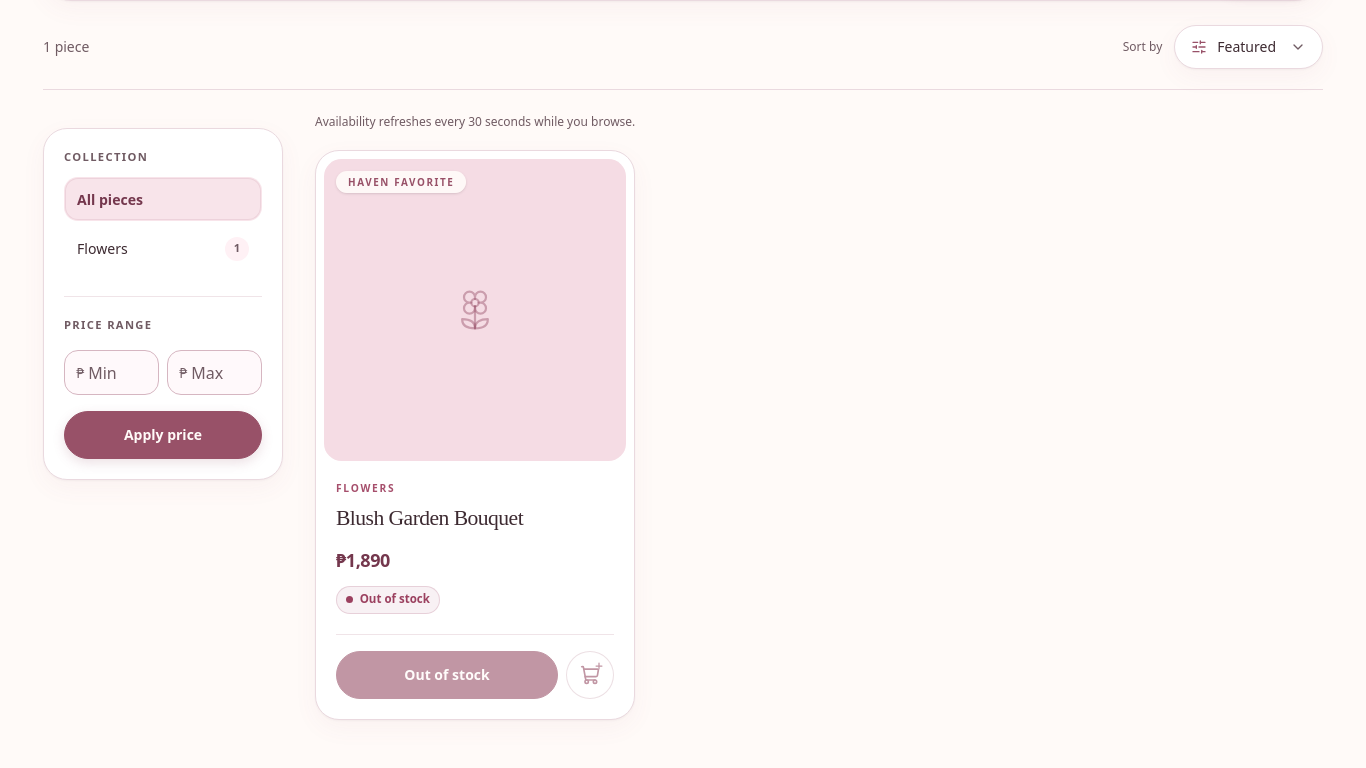
catalog pages › refreshes normal, low, and zero stock on /products and disables purchases
(page scrolled)
Expected: the text "Only 5 left" is shown, [360,592,430,607]
Click the button "Out of stock": (447,675) [336,651,558,699]
Wait 30000 ms
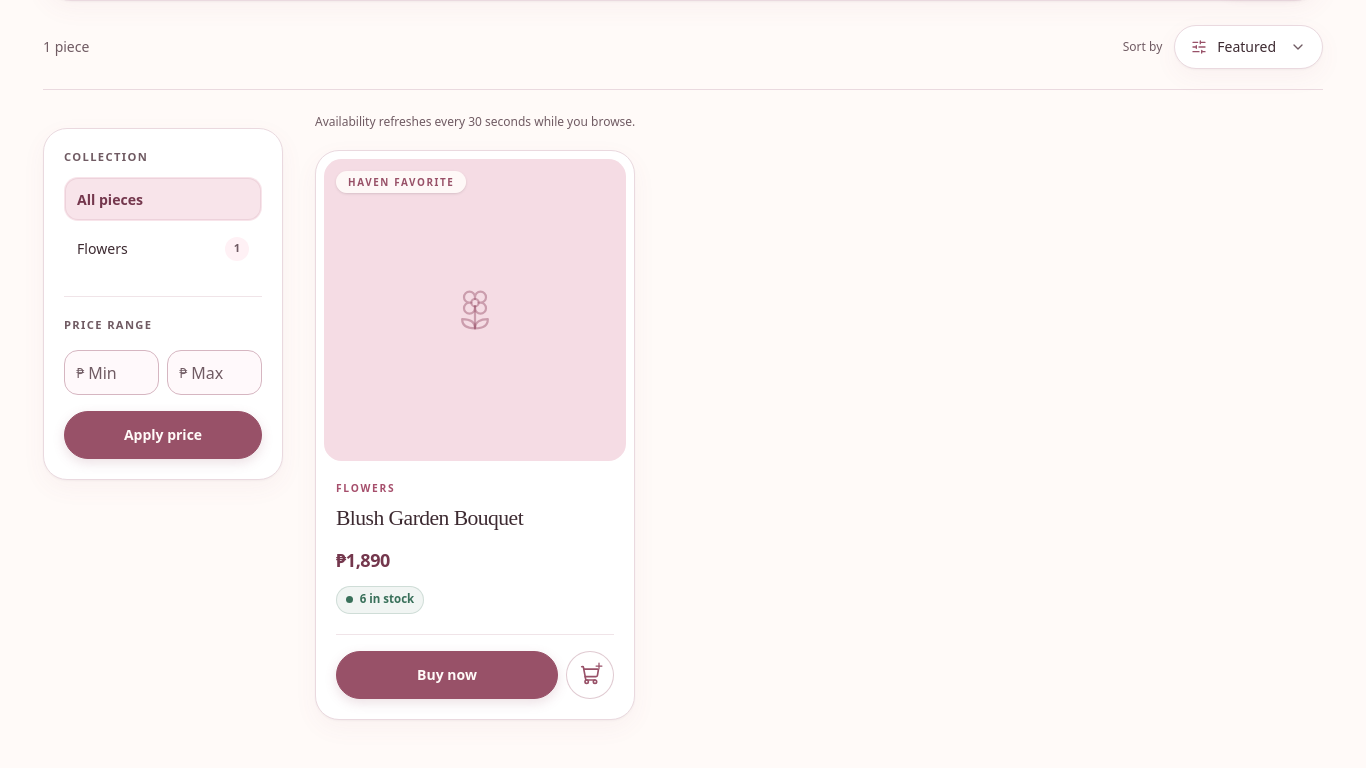
Now the text "6 in stock" is shown, box [360,592,414,607]
Now the button "Buy now" is enabled, box [336,651,558,699]
